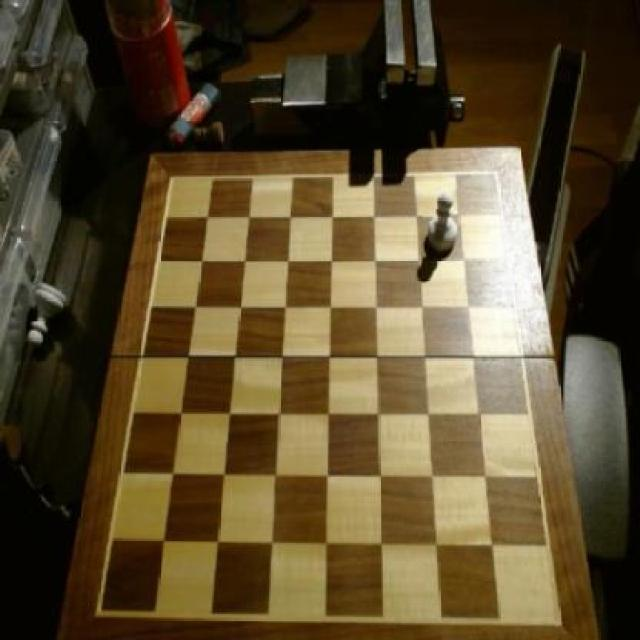white-knight: (424, 189, 462, 260)
